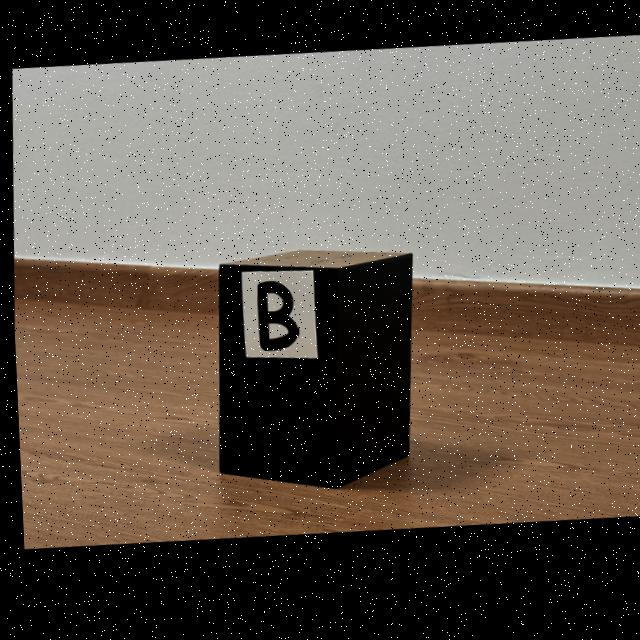B: (255, 286, 294, 355)
